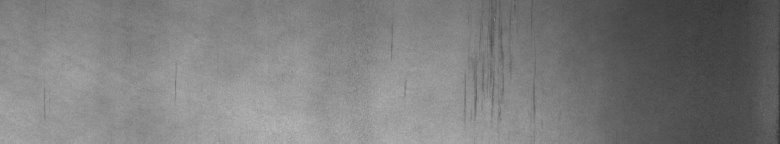ka: (464, 18, 536, 120)
